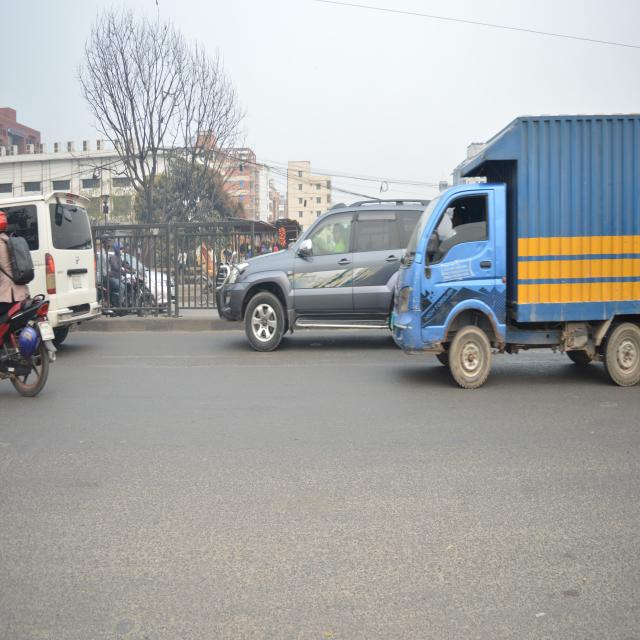microbus: (206, 182, 423, 338), (0, 176, 101, 362)
motorbike: (0, 265, 60, 426), (95, 269, 165, 330)
pickup-van: (393, 100, 640, 416)
